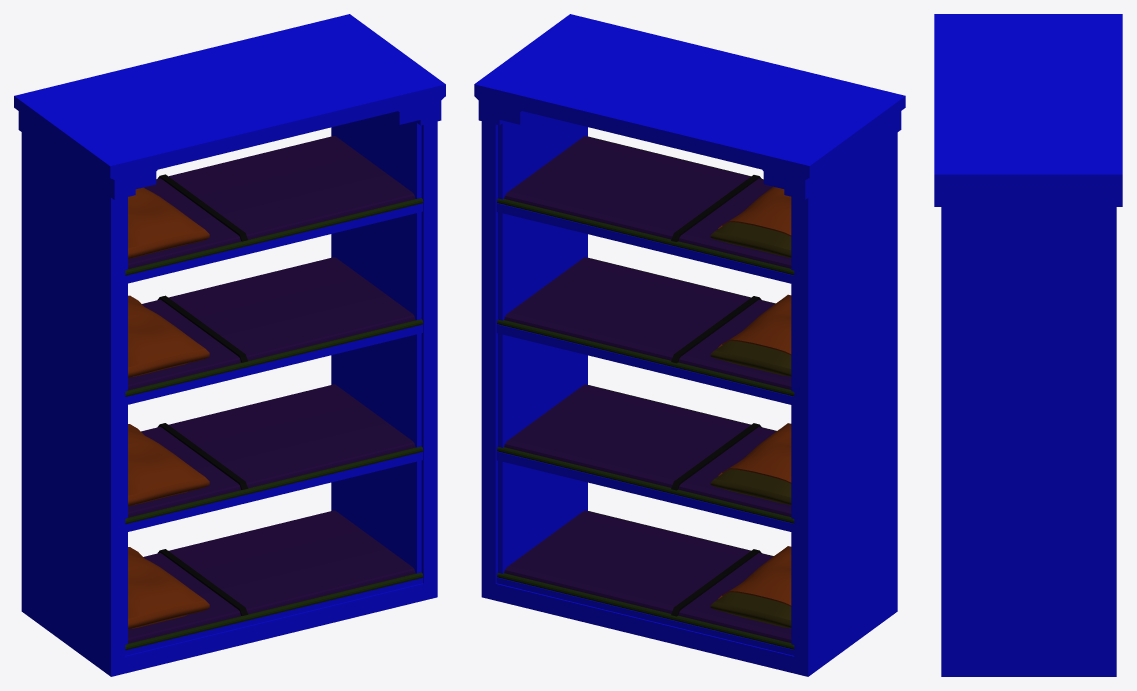
The model's file is Bunkbed.fbx.
3 renders of one model, left to right at view 1: azimuth 30°, elevation 25°; view 2: azimuth 150°, elevation 25°; view 3: azimuth 270°, elevation 25°, orthographic.
Parts seen in each view (by area): view 1: Bunkbed; view 2: Bunkbed; view 3: Bunkbed.
Boxes of the visible parts, <box> form: Bunkbed: <box>14,14,445,676</box>; Bunkbed: <box>474,14,905,676</box>; Bunkbed: <box>934,14,1122,676</box>.
Bounding box in the file's own units: 204 × 101 × 299.
